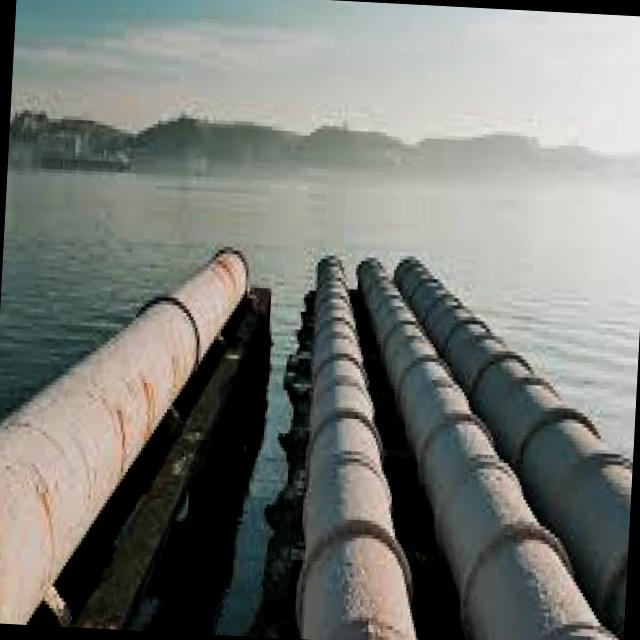gas: (359, 259, 617, 640), (0, 249, 249, 625), (396, 259, 633, 640), (298, 258, 416, 640)
